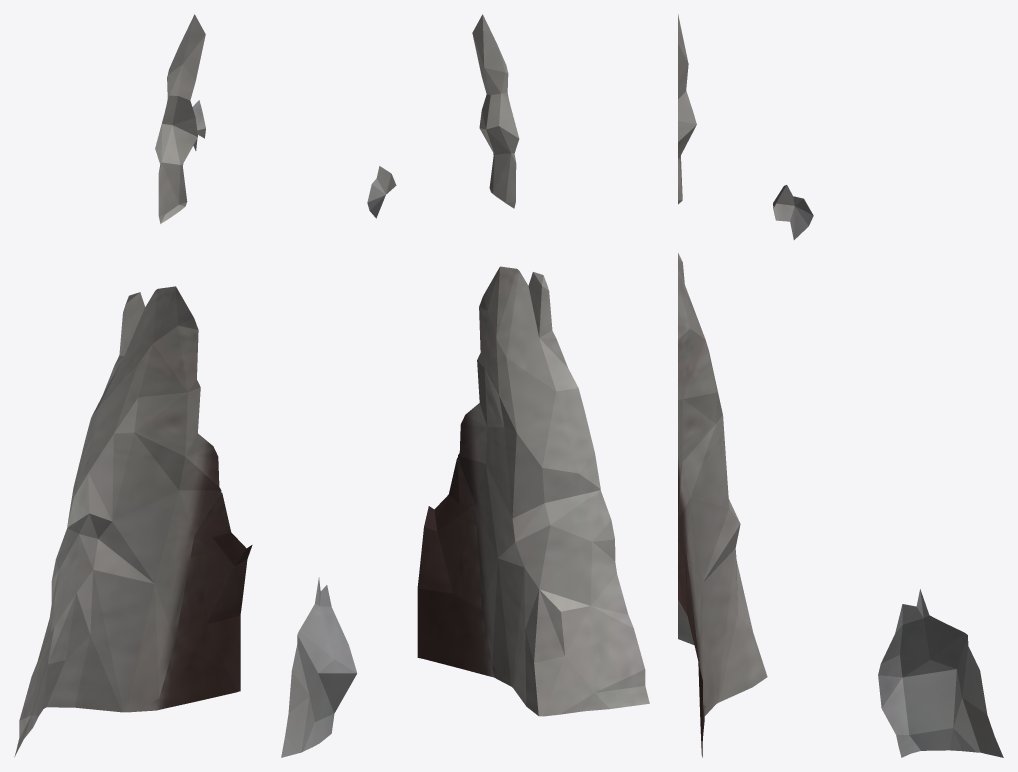
3 renders of one model, left to right at view 1: azimuth 30°, elevation 25°; view 2: azimuth 150°, elevation 25°; view 3: azimuth 270°, elevation 25°, orthographic. The views are drawn at different scales.
Bounding box in the file's own units: 0.1673 × 0.4693 × 0.1937.
Materials: 1 (1 with a texture image).
